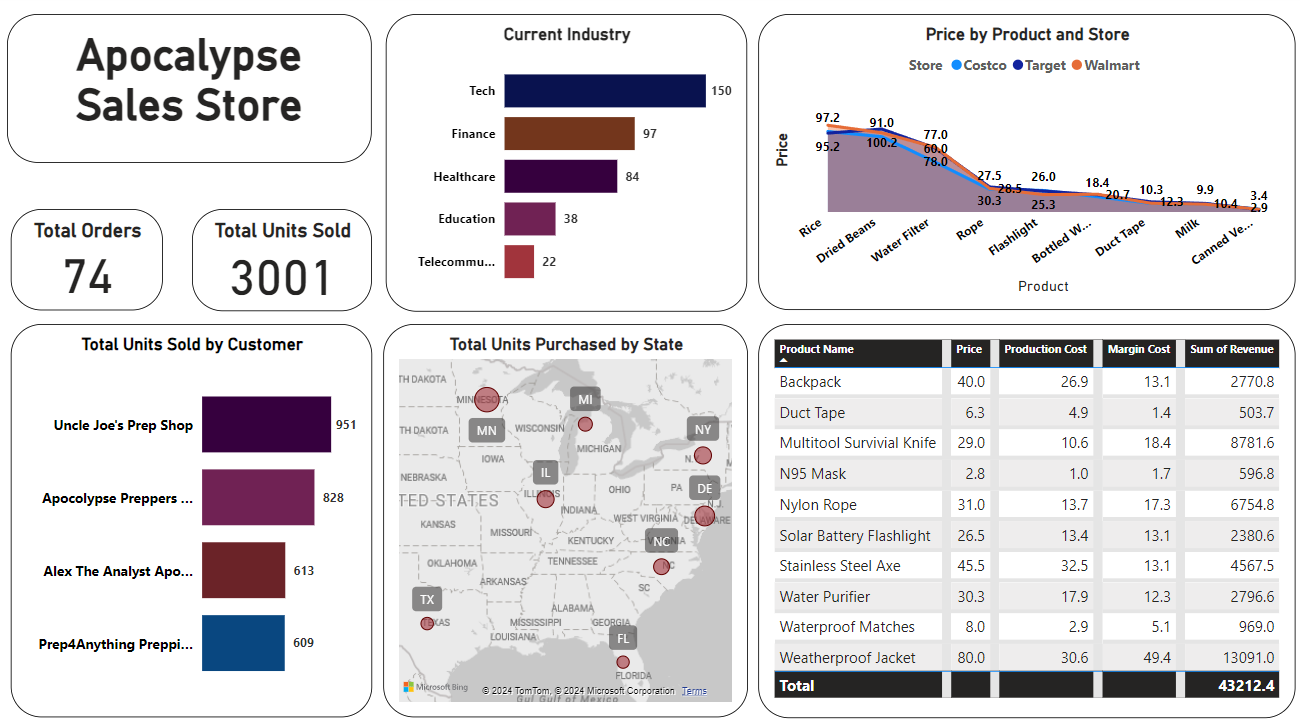

The page's visual inventory and layout, read from the dashboard file:
{"tool":"powerbi","page":{"name":"R1","canvas":[1280,720],"ordinal":0},"visuals":[{"type":"clusteredBarChart","title":"Total Units Sold by Customer","fields":{"Category":["Apocolypse Sales.Customer"],"Y":["Sum(Apocolypse Sales.Units Sold)"]},"box":[13.5,322.8,353.4,385.2],"z":0},{"type":"card","title":"Total Orders","fields":{"Values":["CountNonNull(Apocolypse Sales.Order ID)"]},"box":[13.5,210.3,149.2,99],"z":1000},{"type":"tableEx","fields":{"Values":["Apocolypse Store.Product Name","Apocolypse Store.Price","Apocolypse Store.Production Cost","Apocolypse Store.Margin Cost","Sum(Apocolypse Store (2).Revenue)"]},"box":[744.5,322.6,525.6,385.9],"z":2000},{"type":"map","title":"Total Units Purchased by State","fields":{"Category":["Customer Buyer Information.State"],"Size":["Sum(Customer Buyer Information.Total Purchased)"]},"box":[377.9,322.8,357.1,385.2],"z":3000},{"type":"areaChart","title":"Price by Product and Store","fields":{"Series":["Purchase Tracker.Store"],"Category":["Purchase Tracker.Product"],"Y":["Sum(Purchase Tracker.Price)"]},"box":[744.7,19.6,525.8,289.8],"z":4000},{"type":"clusteredBarChart","title":"Current Industry","fields":{"Category":["Data Professional Survey.Q4 - What Industry do you work in?"],"Y":["CountNonNull(Data Professional Survey.Unique ID)"]},"box":[380.3,19.6,353.4,291],"z":5000},{"type":"textbox","box":[9.8,19.6,357.1,145.5],"z":6000},{"type":"card","title":"Total Units Sold","fields":{"Values":["Sum(Apocolypse Sales.Units Sold)"]},"box":[190.8,210.3,176.1,100.3],"z":6001}]}

Visuals, with their boxes in screenshot pixels (x1, y1, x2, y2), scaled from the page's 1280x720 canvas onto the 1300x726 screenshot:
"Total Units Sold by Customer" clusteredBarChart: (left=14, top=325, right=373, bottom=714)
"Total Orders" card: (left=14, top=212, right=165, bottom=312)
tableEx - Apocolypse Store.Product Name x Apocolypse Store.Price: (left=756, top=325, right=1290, bottom=714)
"Total Units Purchased by State" map: (left=384, top=325, right=746, bottom=714)
"Price by Product and Store" areaChart: (left=756, top=20, right=1290, bottom=312)
"Current Industry" clusteredBarChart: (left=386, top=20, right=745, bottom=313)
textbox: (left=10, top=20, right=373, bottom=166)
"Total Units Sold" card: (left=194, top=212, right=373, bottom=313)
